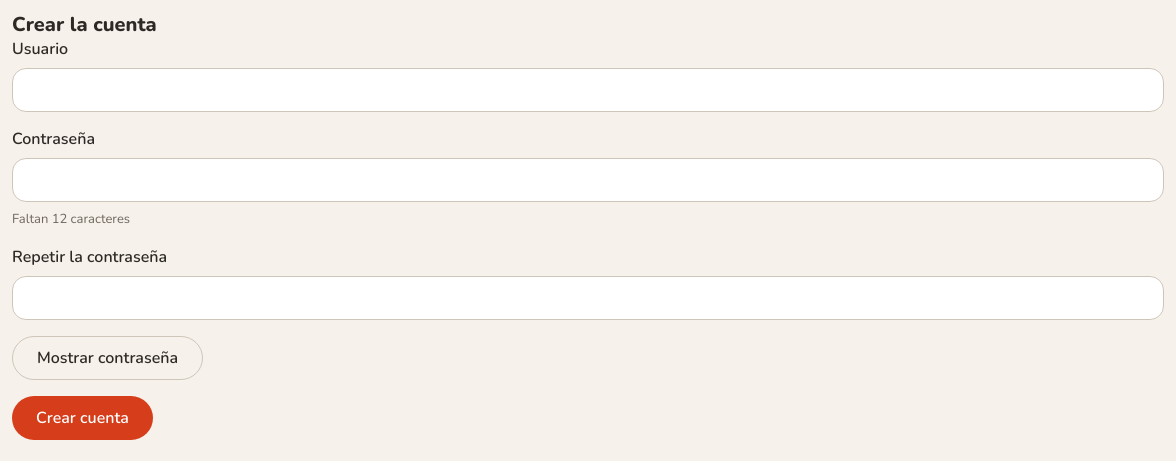
Test: CreateAccountForm: errores del cliente › con solo la repetición distinta muestra ese error y enfoca «Repetir la contraseña»
Type "valido" into the field labelled "Usuario". click: (588, 90)
box: [12, 68, 1164, 112]
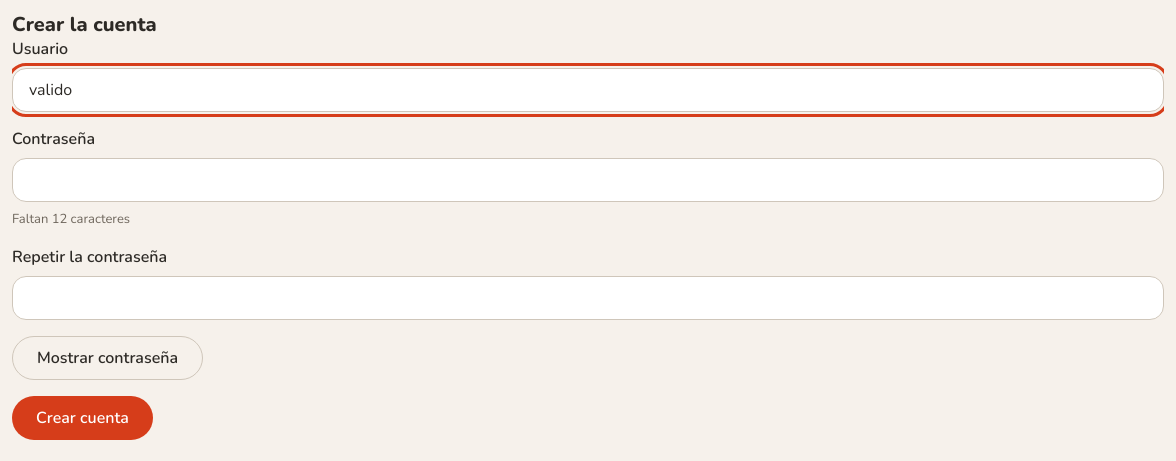
Type "123456789012" into the password field labelled "Contraseña". click: (588, 180)
box: [12, 158, 1164, 202]
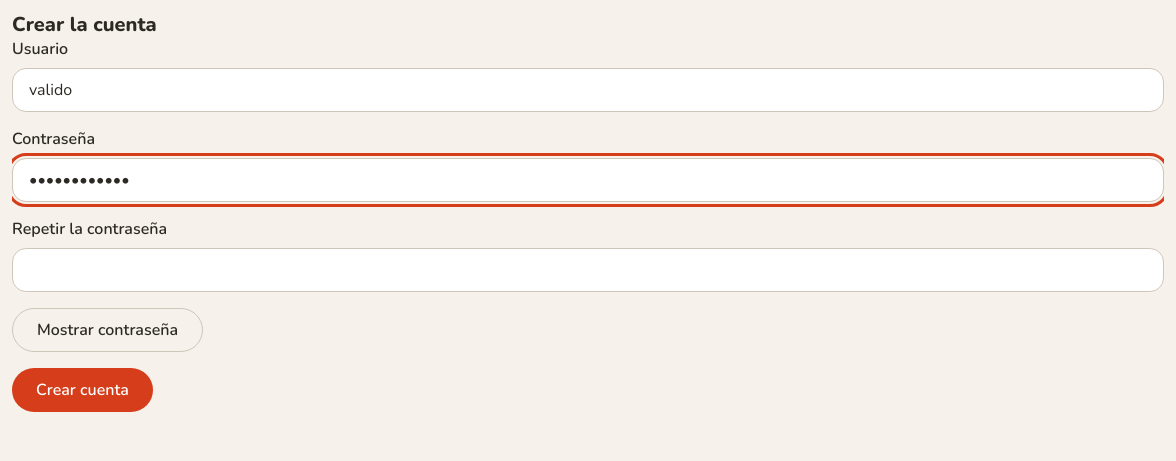
Type "123456789013" into the password field labelled "Repetir la contraseña". click: (588, 270)
box: [12, 248, 1164, 292]
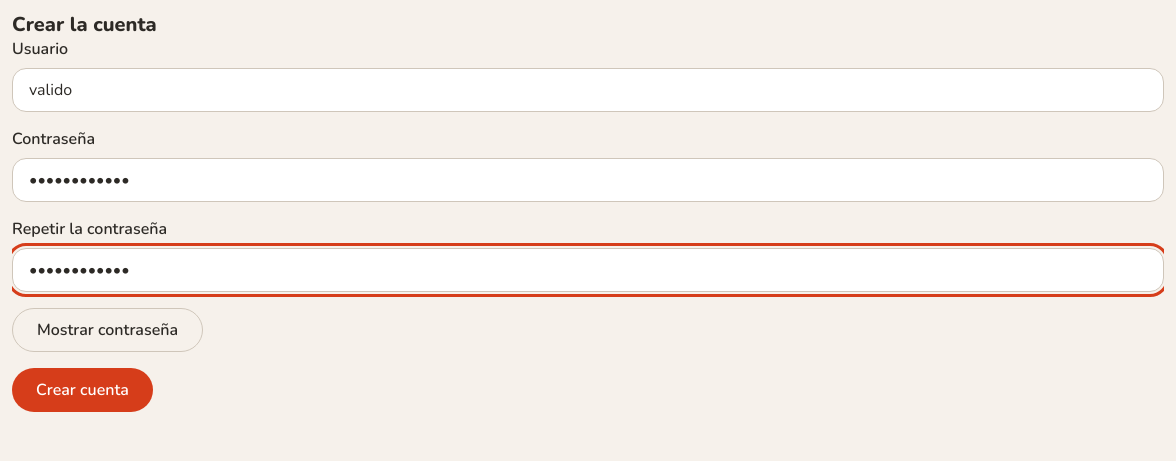
Click the button "Crear cuenta". click: (82, 390)
box: [12, 368, 153, 412]
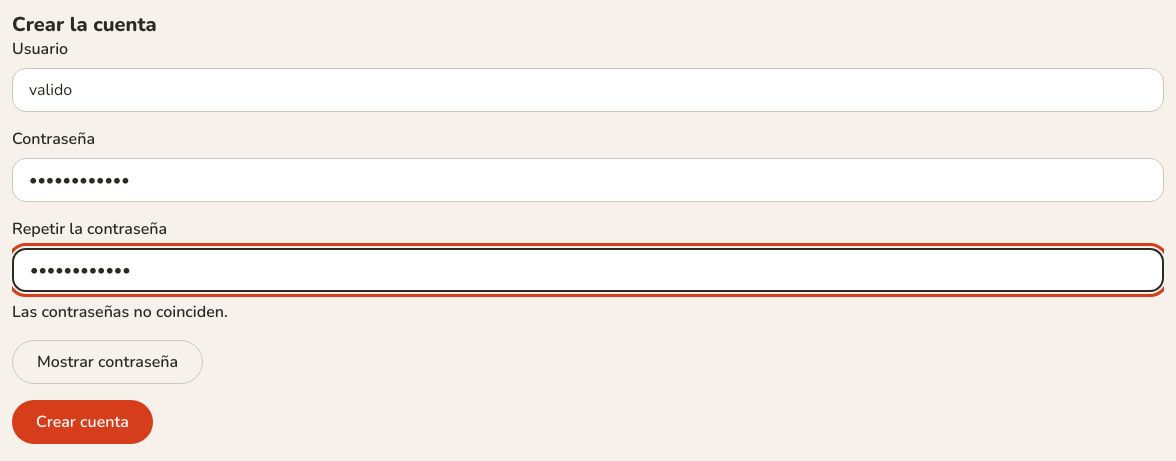
Now the text "Las contraseñas no coinciden." is shown, box [12, 301, 228, 323]
